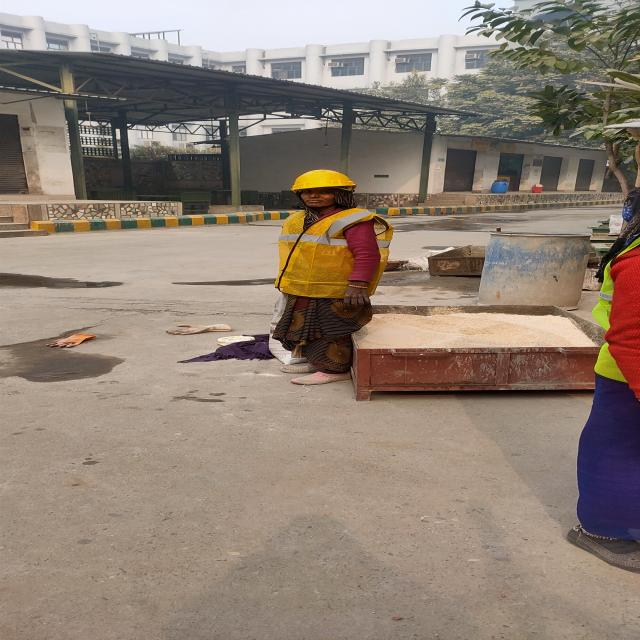safe: (273, 166, 381, 389)
